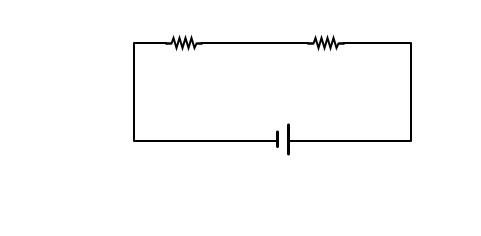resistor: (149, 16, 219, 59), (300, 20, 368, 59)
